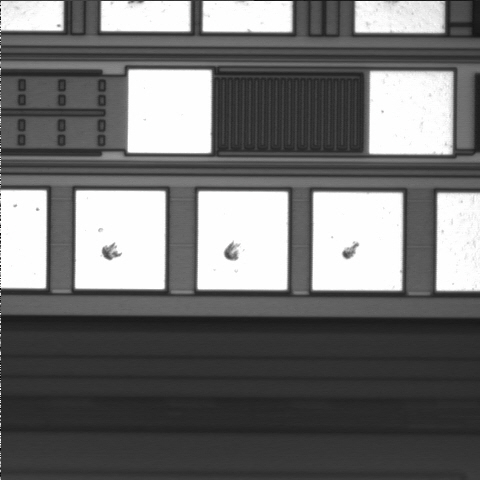pad: (197, 191, 288, 290), (312, 192, 403, 290), (75, 191, 165, 289), (128, 70, 211, 153), (369, 71, 452, 154)
